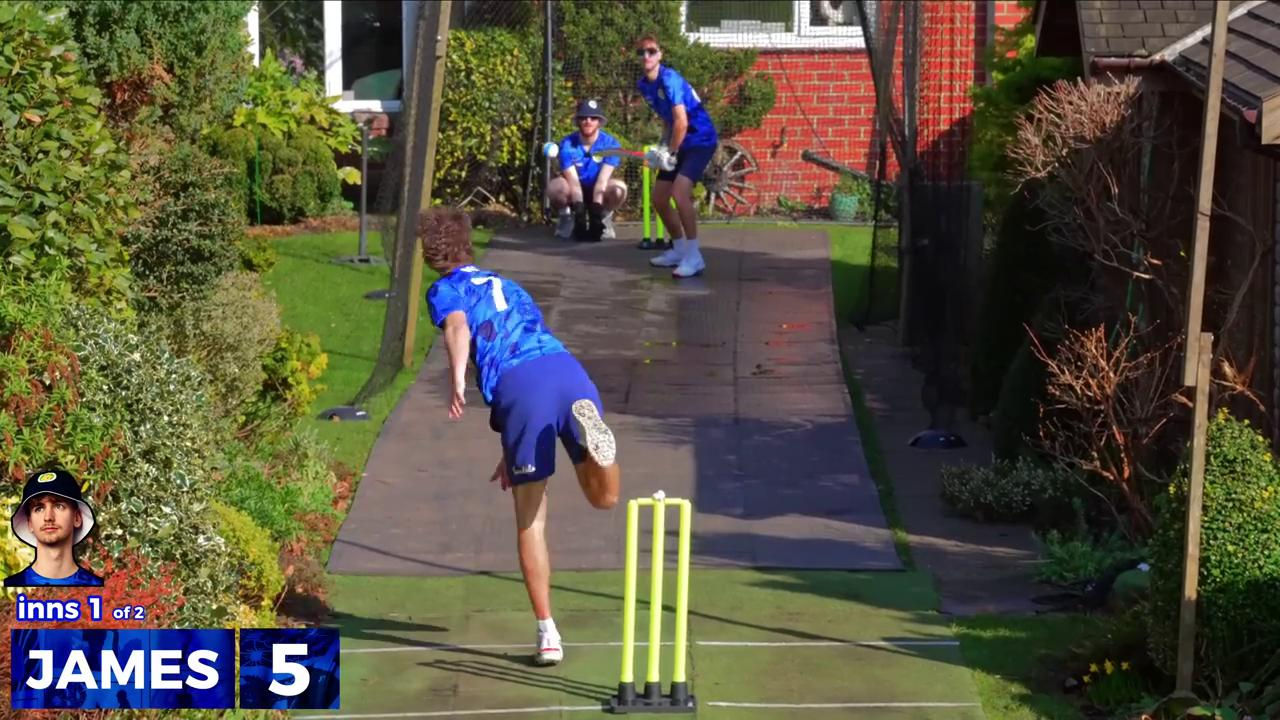ball: (534, 137, 563, 164)
